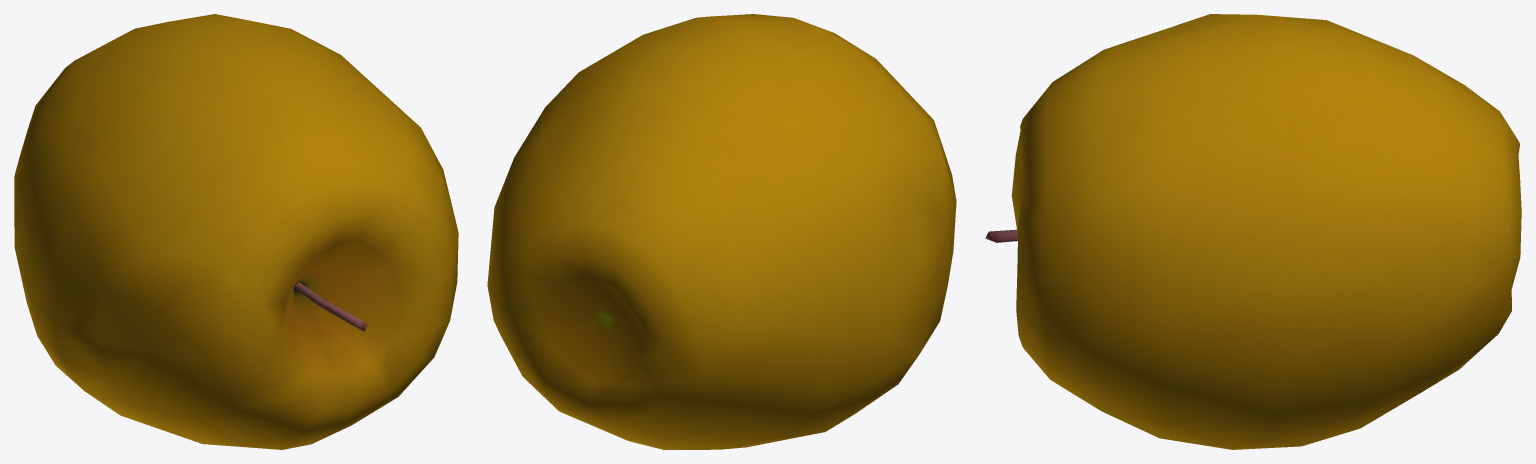
File: MeshAppleB9_0.obj
3 renders of one model, left to right at view 1: azimuth 30°, elevation 25°; view 2: azimuth 150°, elevation 25°; view 3: azimuth 270°, elevation 25°, orthographic. The views are drawn at different scales.
Parts seen in each view (by area): view 1: AppleB9; view 2: AppleB9; view 3: AppleB9.
Part boxes in pixels (<box>): AppleB9: <box>14,14,458,449</box>; AppleB9: <box>487,14,956,449</box>; AppleB9: <box>985,14,1521,449</box>.
Bounding box in the file's own units: 0.0976 × 0.0969 × 0.1174.
Materials: 1 (1 with a texture image).
